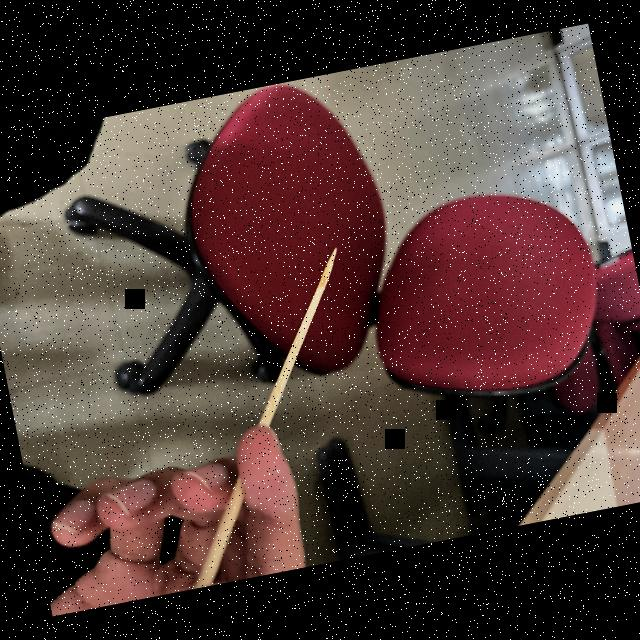stick: (232, 250, 365, 420)
